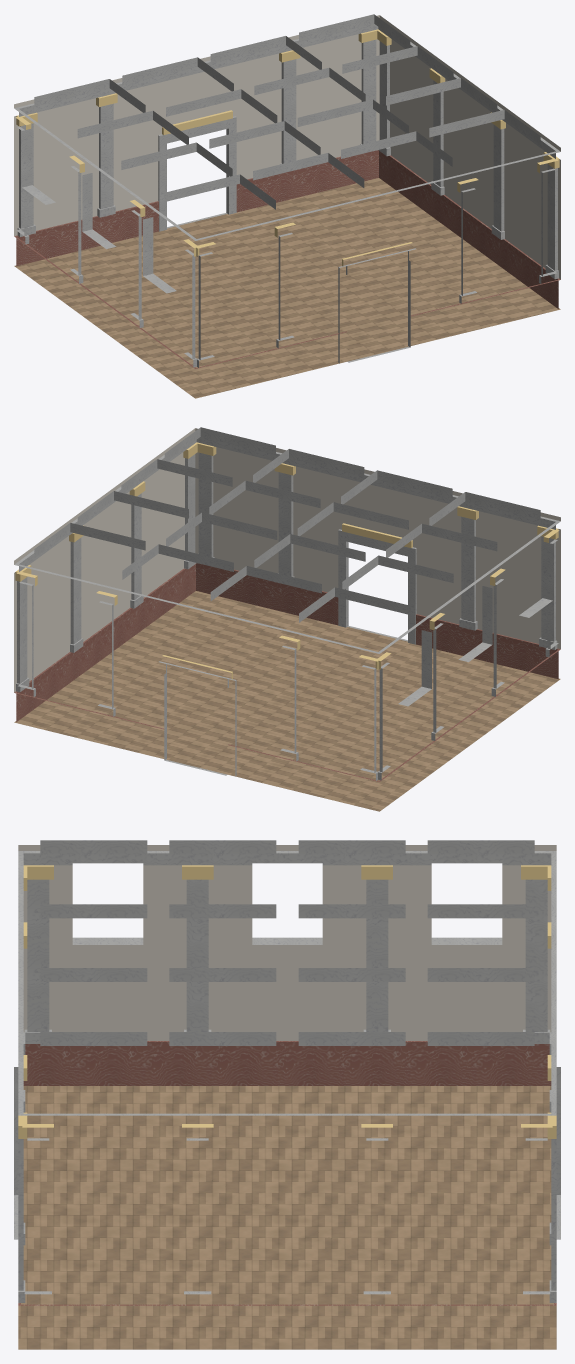
File: phototroph.glb
The picture shows the model from 3 angles, top to bottom: view 1: azimuth 30°, elevation 25°; view 2: azimuth 150°, elevation 25°; view 3: azimuth 270°, elevation 25°; orthographic projection. The views are drawn at different scales.
Parts seen in each view (by area): view 1: phototroph; view 2: phototroph; view 3: phototroph.
Boxes of the visible parts, left/top/right/bottom form: phototroph: left=14, top=14, right=560, bottom=398; phototroph: left=14, top=427, right=560, bottom=811; phototroph: left=14, top=840, right=560, bottom=1349.
Size of the model in its own units: 14.6 by 6.35 by 12.4.
7 materials, 4 textured.
